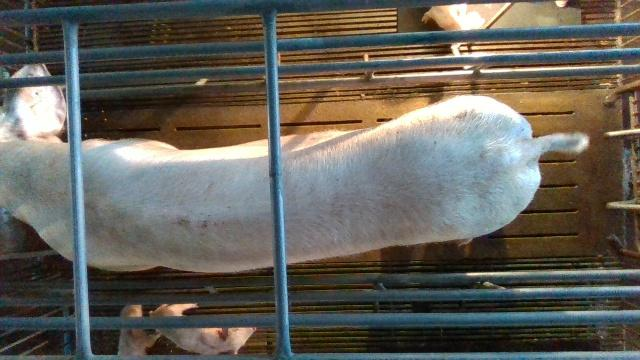piglet: (150, 304, 255, 356), (420, 4, 485, 54), (115, 304, 161, 356)
sow-stand-feed: (1, 64, 590, 272)
